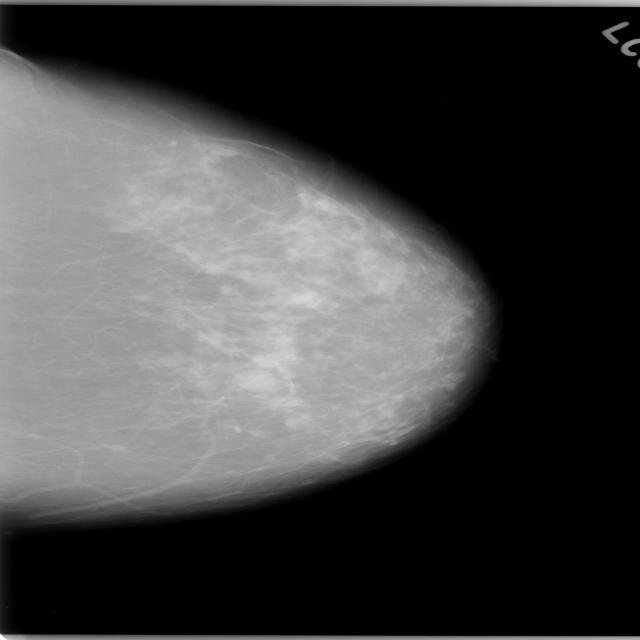normal: (0, 53, 505, 527)
